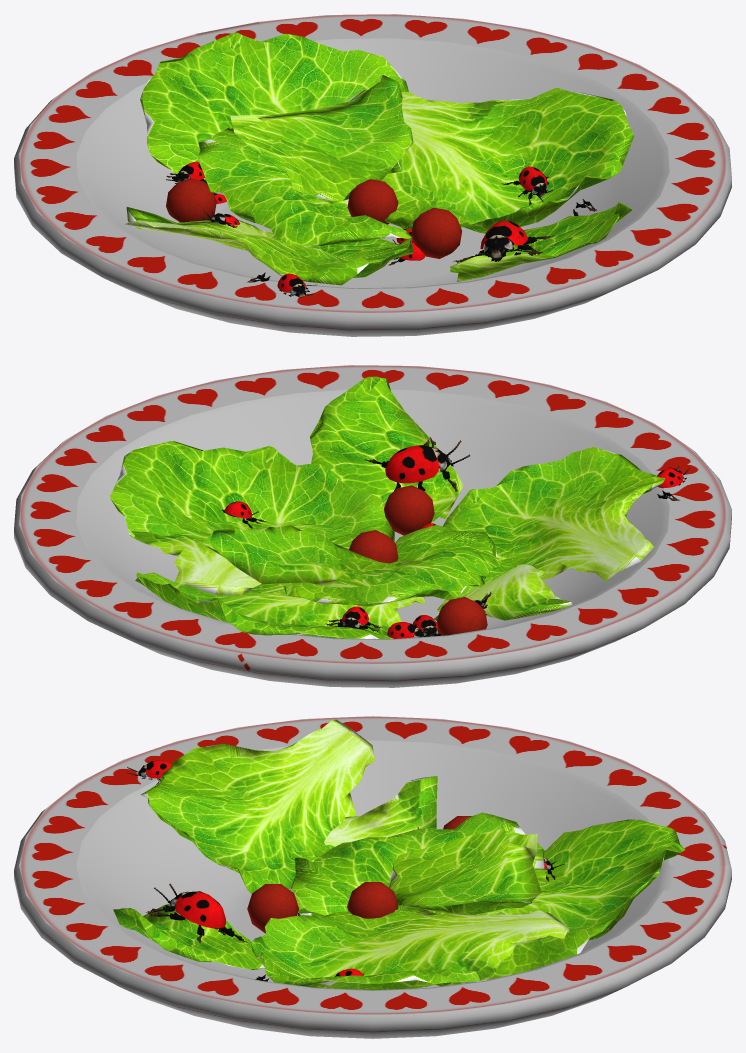
The picture shows the model from 3 angles, top to bottom: view 1: azimuth 30°, elevation 25°; view 2: azimuth 150°, elevation 25°; view 3: azimuth 270°, elevation 25°; orthographic projection.
Parts seen in each view (by area): view 1: Circle, PolySphere.001, PolySphere, PolySphere.009, PolySphere.003, PolySphere.002, PolySphere.005, Icosphere.003, Icosphere, Icosphere.002, PolySphere.006, Body.002 (+1 smaller); view 2: Circle, PolySphere.001, PolySphere.002, PolySphere.005, PolySphere.003, PolySphere, PolySphere.009, PolySphere.006, Icosphere.003, Elytra.002, Icosphere, Icosphere.002 (+1 smaller); view 3: Circle, PolySphere.002, PolySphere.001, PolySphere, PolySphere.009, PolySphere.003, PolySphere.005, PolySphere.006, Icosphere.003, Icosphere.002, Elytra.002, Body.002.
Part boxes in pixels (bbox=[...]): Circle: bbox=[14, 14, 731, 336]; PolySphere.001: bbox=[347, 87, 634, 233]; PolySphere: bbox=[140, 32, 408, 204]; PolySphere.009: bbox=[230, 75, 413, 203]; PolySphere.003: bbox=[198, 127, 412, 246]; PolySphere.002: bbox=[124, 220, 413, 285]; PolySphere.005: bbox=[450, 201, 631, 281]; Icosphere.003: bbox=[411, 207, 461, 258]; Icosphere: bbox=[166, 178, 216, 222]; Icosphere.002: bbox=[347, 179, 398, 224]; PolySphere.006: bbox=[126, 207, 274, 252]; Body.002: bbox=[453, 234, 554, 263]; Circle: bbox=[14, 365, 731, 687]; PolySphere.001: bbox=[109, 441, 394, 595]; PolySphere.002: bbox=[443, 446, 665, 597]; PolySphere.005: bbox=[310, 376, 463, 522]; PolySphere.003: bbox=[278, 524, 501, 606]; PolySphere: bbox=[135, 572, 424, 639]; PolySphere.009: bbox=[202, 525, 422, 587]; PolySphere.006: bbox=[434, 564, 572, 620]; Icosphere.003: bbox=[384, 485, 434, 535]; Elytra.002: bbox=[385, 445, 439, 483]; Icosphere: bbox=[436, 597, 487, 635]; Icosphere.002: bbox=[349, 530, 398, 563]; Circle: bbox=[14, 716, 731, 1038]; PolySphere.002: bbox=[140, 719, 374, 893]; PolySphere.001: bbox=[251, 908, 569, 990]; PolySphere: bbox=[489, 819, 685, 979]; PolySphere.009: bbox=[388, 828, 541, 915]; PolySphere.003: bbox=[289, 812, 546, 916]; PolySphere.005: bbox=[113, 903, 264, 969]; PolySphere.006: bbox=[324, 776, 437, 846]; Icosphere.003: bbox=[247, 884, 298, 933]; Icosphere.002: bbox=[347, 882, 397, 918]; Elytra.002: bbox=[175, 891, 225, 928]; Body.002: bbox=[146, 883, 247, 943].
Bounding box in the file's own units: 3.68 × 0.7332 × 3.68.
Materials: 6 (6 with a texture image).
